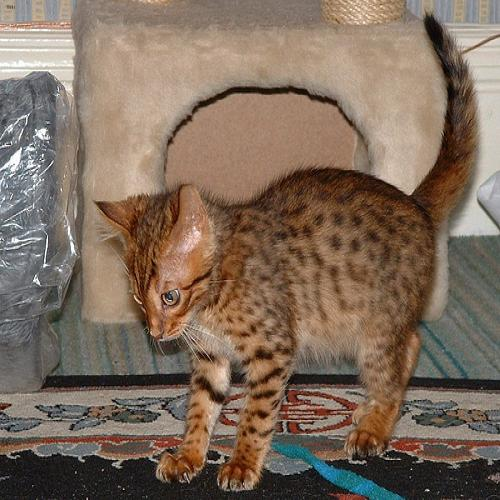cat-face: (86, 179, 230, 349)
